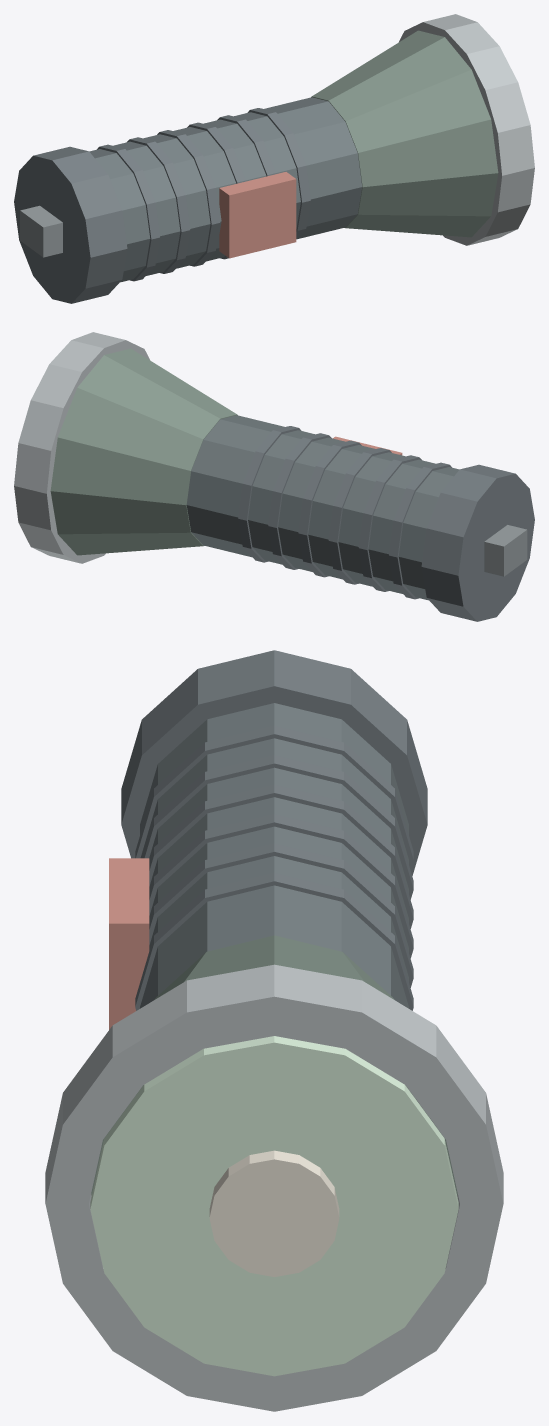
File: 11_flashlight.glb
3 views of the same model, one above another, from view 1: azimuth 30°, elevation 25°; view 2: azimuth 150°, elevation 25°; view 3: azimuth 270°, elevation 25° (orthographic). The views are drawn at different scales.
Parts seen in each view (by area): view 1: torch_head_flared_0003, main_flashlight_body_0001, tail_cap_0002, lens_metal_bezel_0004, rubber_power_button_0013, wrist_strap_anchor_0014, rubber_grip_rib_0008, rubber_grip_rib_0009, rubber_grip_rib_0007, rubber_grip_rib_0012, rubber_grip_rib_0010, rubber_grip_rib_0011; view 2: torch_head_flared_0003, main_flashlight_body_0001, tail_cap_0002, lens_metal_bezel_0004, wrist_strap_anchor_0014, rubber_grip_rib_0010, rubber_grip_rib_0011, rubber_grip_rib_0012, rubber_grip_rib_0008, rubber_grip_rib_0009, rubber_grip_rib_0007; view 3: yellowish_lens_0005, lens_metal_bezel_0004, main_flashlight_body_0001, tail_cap_0002, central_emitter_0006, rubber_power_button_0013, torch_head_flared_0003, rubber_grip_rib_0007, rubber_grip_rib_0012, rubber_grip_rib_0008, rubber_grip_rib_0010, rubber_grip_rib_0009 (+1 smaller).
Part boxes in pixels (x1=…): torch_head_flared_0003: x1=311, y1=30, x2=498, y2=237; main_flashlight_body_0001: x1=89, y1=97, x2=362, y2=282; tail_cap_0002: x1=14, y1=146, x2=127, y2=303; lens_metal_bezel_0004: x1=399, y1=14, x2=534, y2=245; rubber_power_button_0013: x1=219, y1=172, x2=296, y2=258; wrist_strap_anchor_0014: x1=20, y1=205, x2=62, y2=257; rubber_grip_rib_0008: x1=127, y1=137, x2=190, y2=273; rubber_grip_rib_0009: x1=157, y1=130, x2=220, y2=266; rubber_grip_rib_0007: x1=97, y1=144, x2=159, y2=281; rubber_grip_rib_0012: x1=247, y1=108, x2=310, y2=238; rubber_grip_rib_0010: x1=187, y1=122, x2=245, y2=259; rubber_grip_rib_0011: x1=217, y1=115, x2=275, y2=176; torch_head_flared_0003: x1=50, y1=348, x2=237, y2=555; main_flashlight_body_0001: x1=186, y1=415, x2=459, y2=600; tail_cap_0002: x1=421, y1=464, x2=534, y2=621; lens_metal_bezel_0004: x1=14, y1=332, x2=149, y2=563; wrist_strap_anchor_0014: x1=484, y1=525, x2=527, y2=576; rubber_grip_rib_0010: x1=298, y1=440, x2=361, y2=577; rubber_grip_rib_0011: x1=268, y1=433, x2=331, y2=569; rubber_grip_rib_0012: x1=238, y1=426, x2=301, y2=562; rubber_grip_rib_0008: x1=358, y1=455, x2=421, y2=591; rubber_grip_rib_0009: x1=328, y1=448, x2=391, y2=584; rubber_grip_rib_0007: x1=389, y1=462, x2=451, y2=599; yellowish_lens_0005: x1=90, y1=1036, x2=458, y2=1376; lens_metal_bezel_0004: x1=45, y1=964, x2=503, y2=1411; main_flashlight_body_0001: x1=140, y1=703, x2=408, y2=1008; tail_cap_0002: x1=121, y1=650, x2=427, y2=875; central_emitter_0006: x1=209, y1=1150, x2=339, y2=1276; rubber_power_button_0013: x1=109, y1=858, x2=149, y2=1029; torch_head_flared_0003: x1=91, y1=935, x2=457, y2=1195; rubber_grip_rib_0007: x1=135, y1=725, x2=413, y2=870; rubber_grip_rib_0012: x1=135, y1=872, x2=413, y2=1010; rubber_grip_rib_0008: x1=142, y1=755, x2=413, y2=899; rubber_grip_rib_0010: x1=149, y1=814, x2=413, y2=958; rubber_grip_rib_0009: x1=149, y1=784, x2=413, y2=928.
Bounding box in the file's own units: 0.686 × 0.296 × 0.296.
